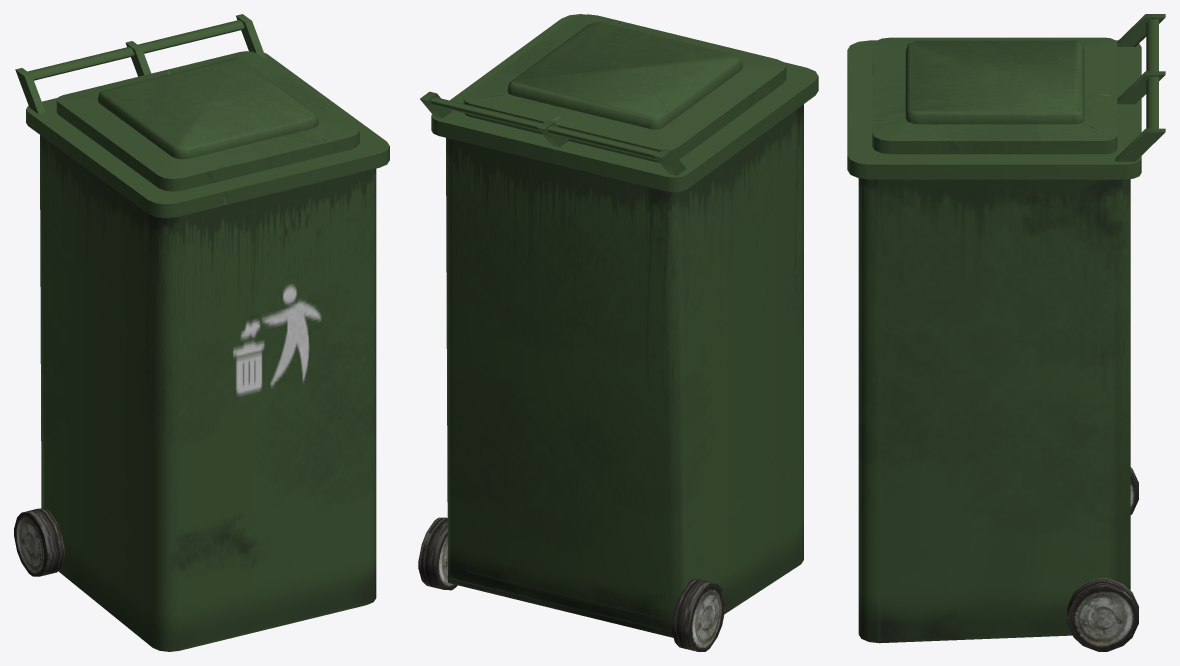
Rendered from trash can.fbx.
3 renders of one model, left to right at view 1: azimuth 30°, elevation 25°; view 2: azimuth 150°, elevation 25°; view 3: azimuth 270°, elevation 25°, orthographic. The views are drawn at different scales.
Parts seen in each view (by area): view 1: Cube.002; view 2: Cube.002; view 3: Cube.002.
Part boxes in pixels (<box>): Cube.002: <box>14,14,389,651</box>; Cube.002: <box>418,14,818,651</box>; Cube.002: <box>847,14,1165,651</box>.
Bounding box in the file's own units: 63.31 × 114 × 64.24.
